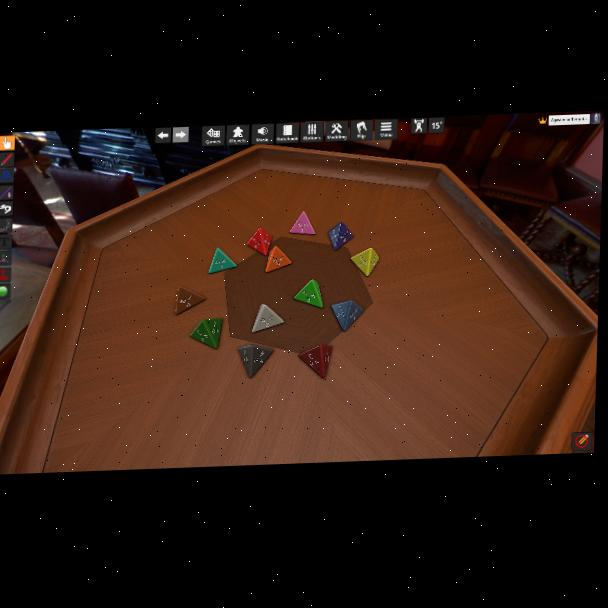d4: (238, 343, 276, 379), (297, 344, 331, 380), (331, 299, 364, 333), (189, 318, 221, 350), (252, 304, 285, 334), (173, 284, 204, 315), (349, 247, 378, 277), (294, 279, 322, 309), (208, 248, 236, 275), (249, 227, 274, 257), (267, 245, 293, 273), (328, 223, 352, 252), (289, 212, 315, 237)
